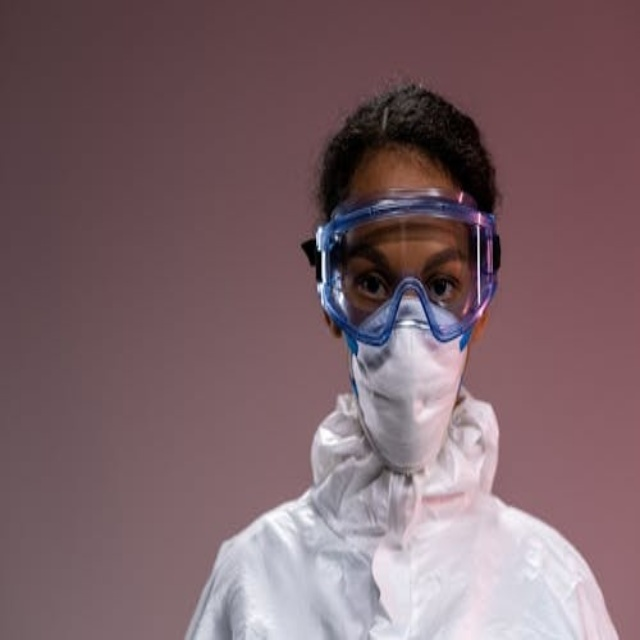Gafas: (304, 193, 500, 347)
Mascara: (345, 295, 475, 476)
